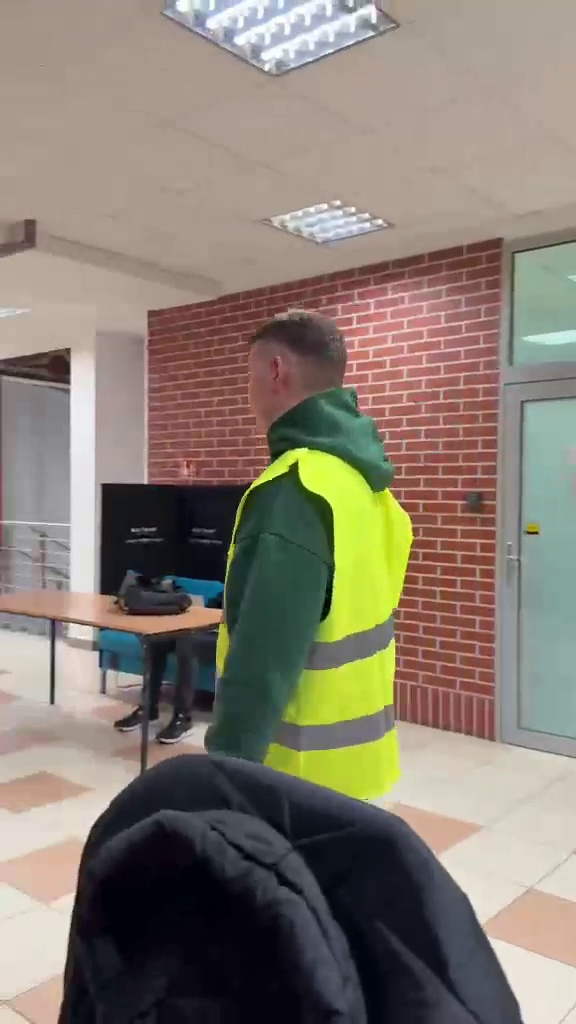vest: (213, 304, 405, 802)
